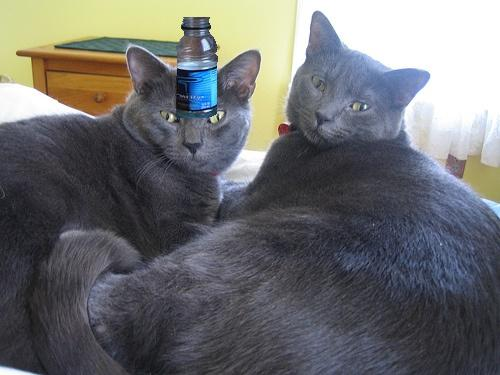tampered: (177, 18, 218, 118)
